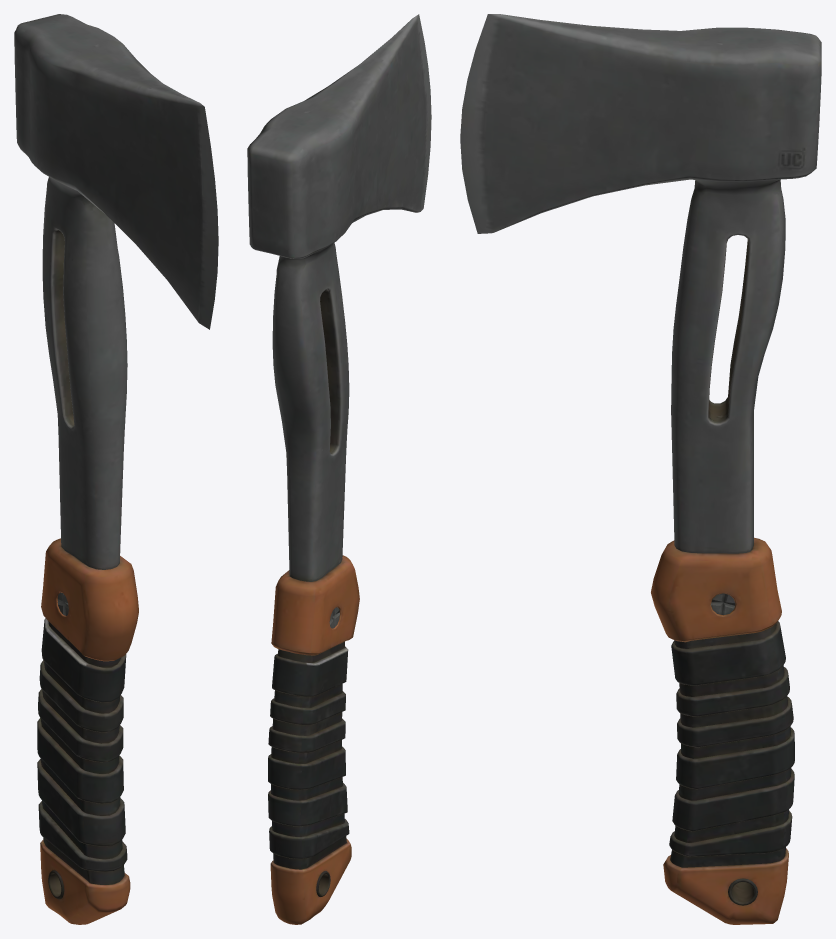
Rendered from hatchet.glb.
3 views of the same model, side by side, from view 1: azimuth 30°, elevation 25°; view 2: azimuth 150°, elevation 25°; view 3: azimuth 270°, elevation 25° (orthographic). The views are drawn at different scales.
Visible parts, largest first — view 1: hatchet; view 2: hatchet; view 3: hatchet.
Boxes of the visible parts, left/top/right/bottom form: hatchet: left=14, top=14, right=218, bottom=924; hatchet: left=247, top=14, right=431, bottom=924; hatchet: left=460, top=14, right=821, bottom=924.
Size of the model in its own units: 0.026 by 0.2887 by 0.1043.
Materials: 1 (1 with a texture image).
